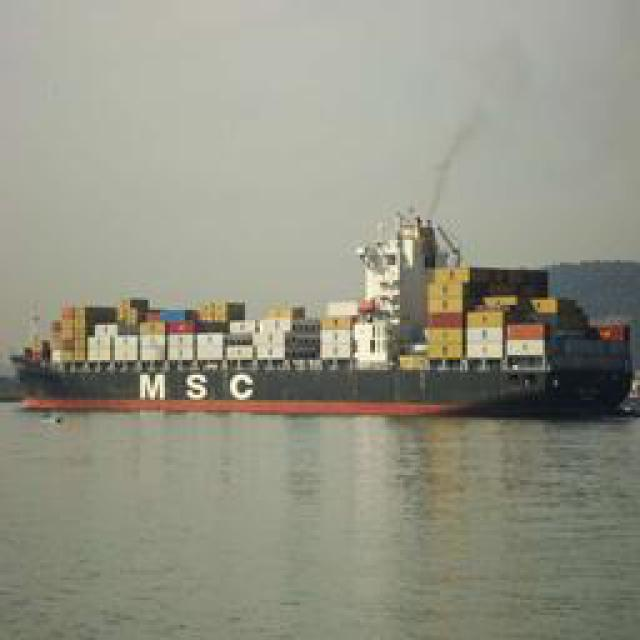Ship: (4, 234, 634, 417)
